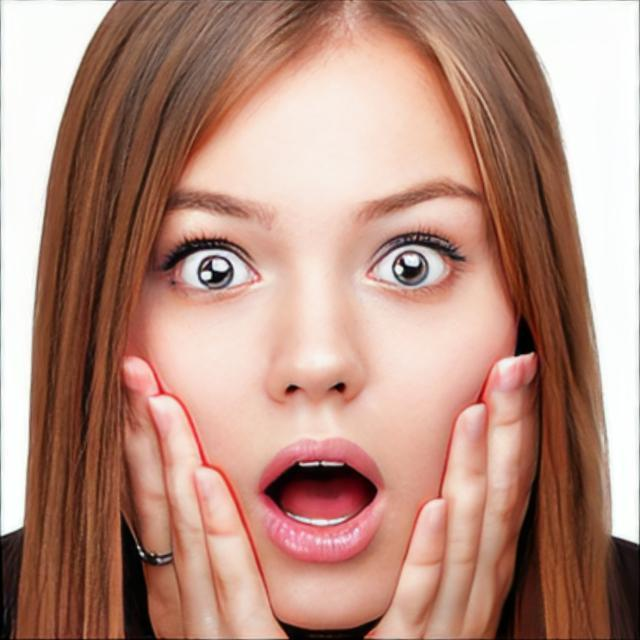surprise: (123, 0, 523, 633)
